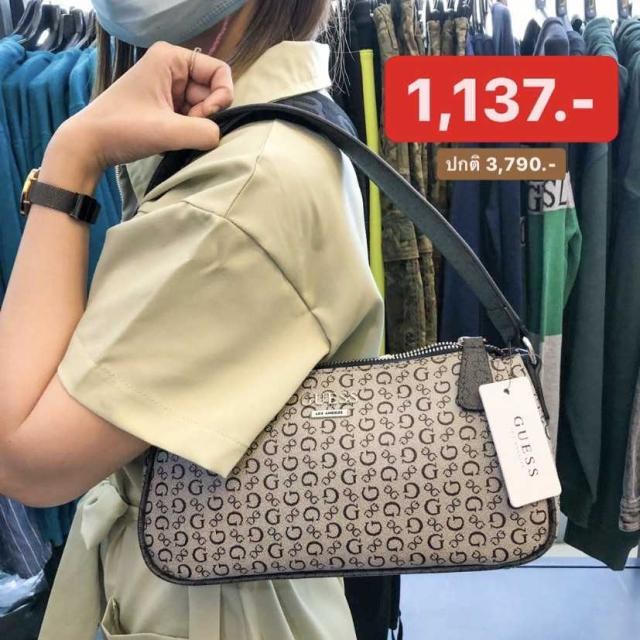handbag: (138, 334, 556, 588)
